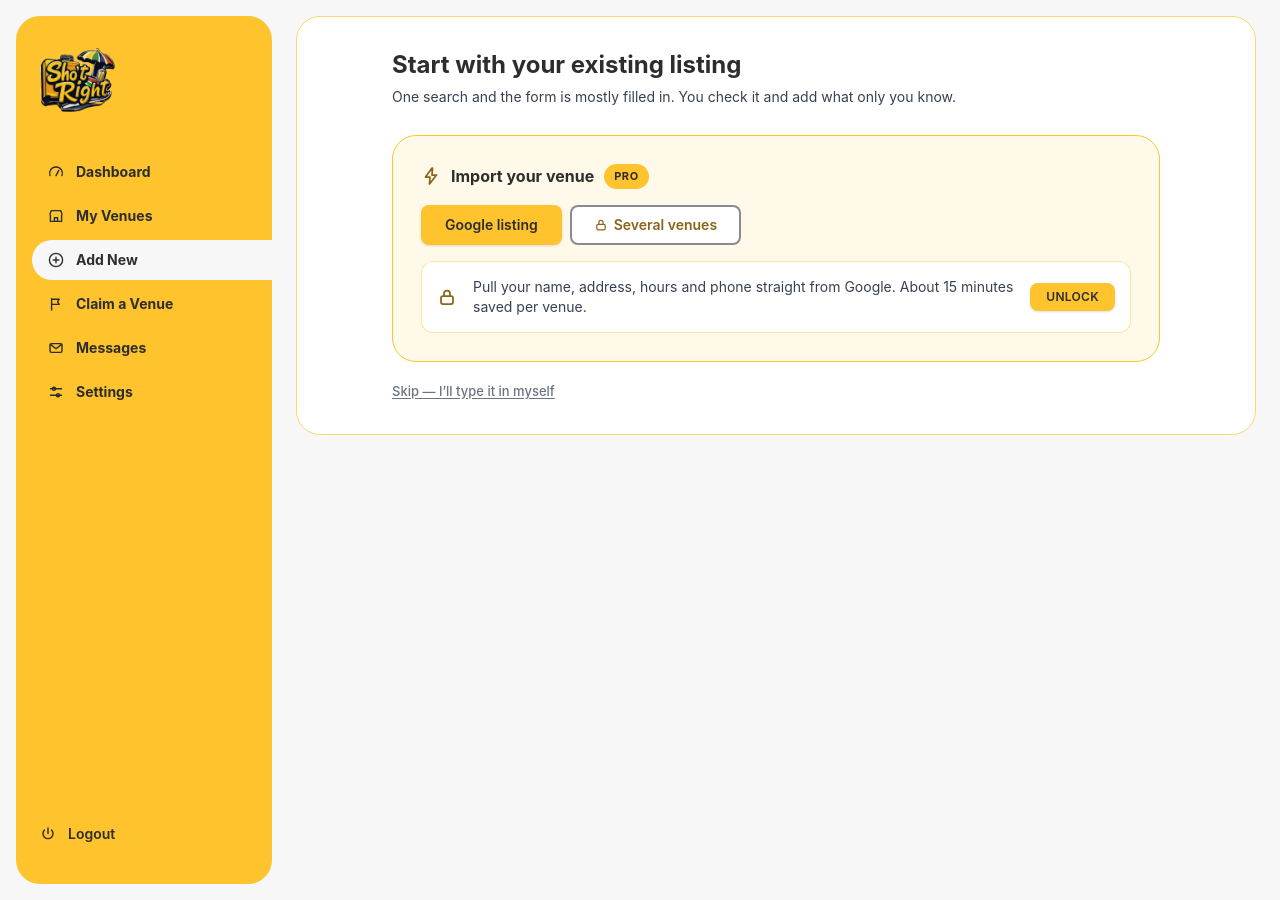
Test: importing is Pro › closes on Escape
This screenshot has width=1280, height=900.
Step 1. Click the button "Unlock" → (1073, 296), box [1030,282,1115,310]
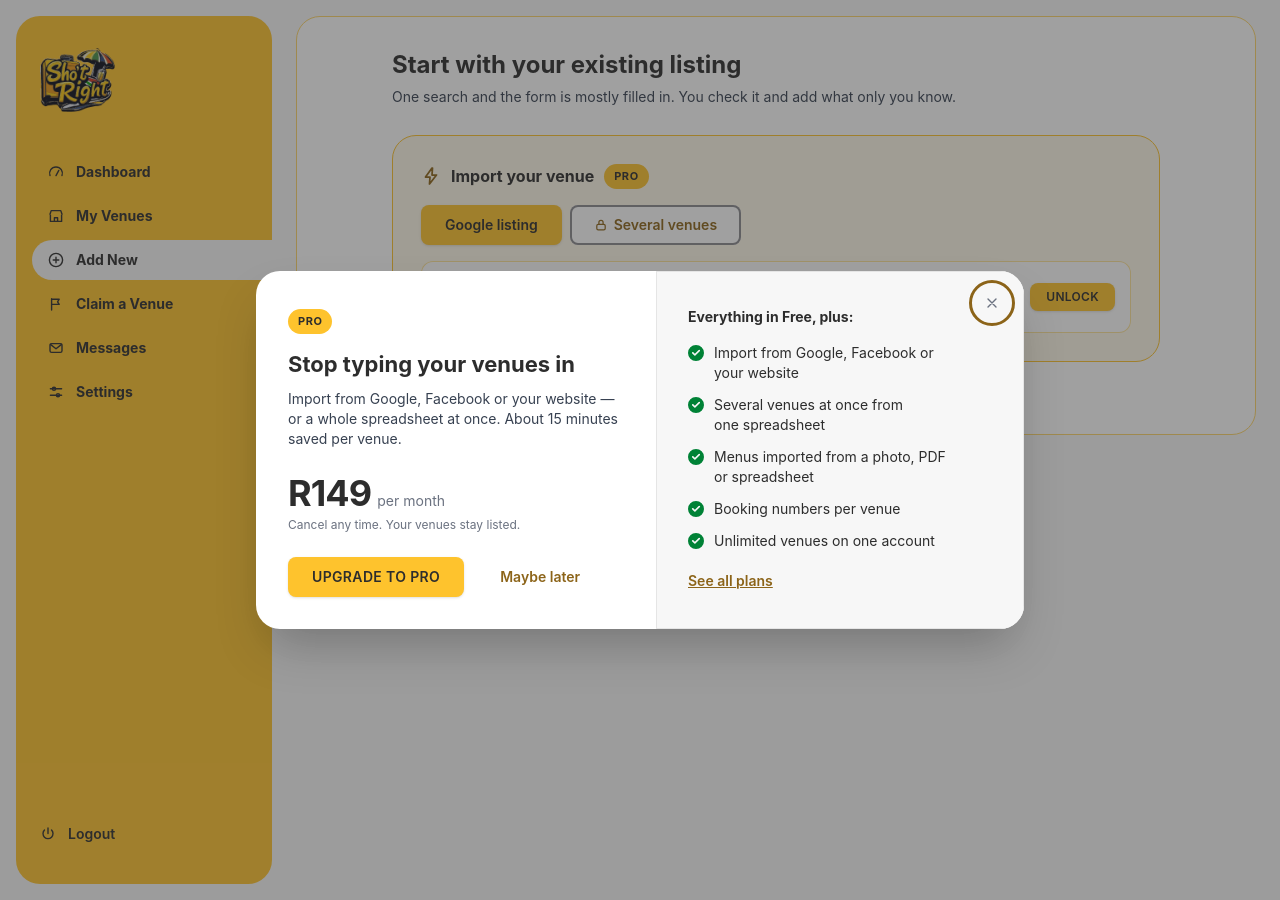
Expected: the dialog "Stop typing your venues in" is shown, [256,271,1024,629]
Step 2. Press Escape
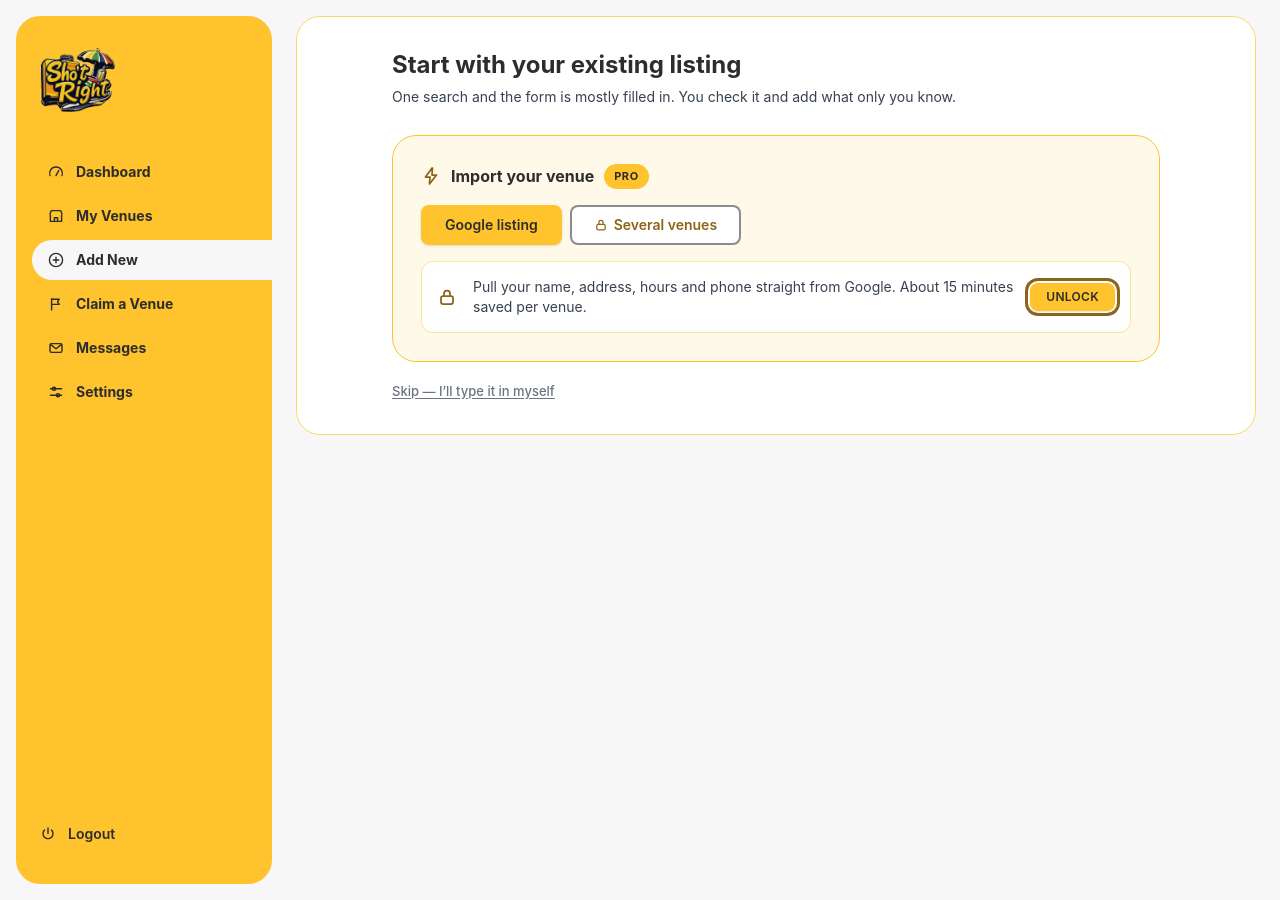
Expected: the dialog is gone
